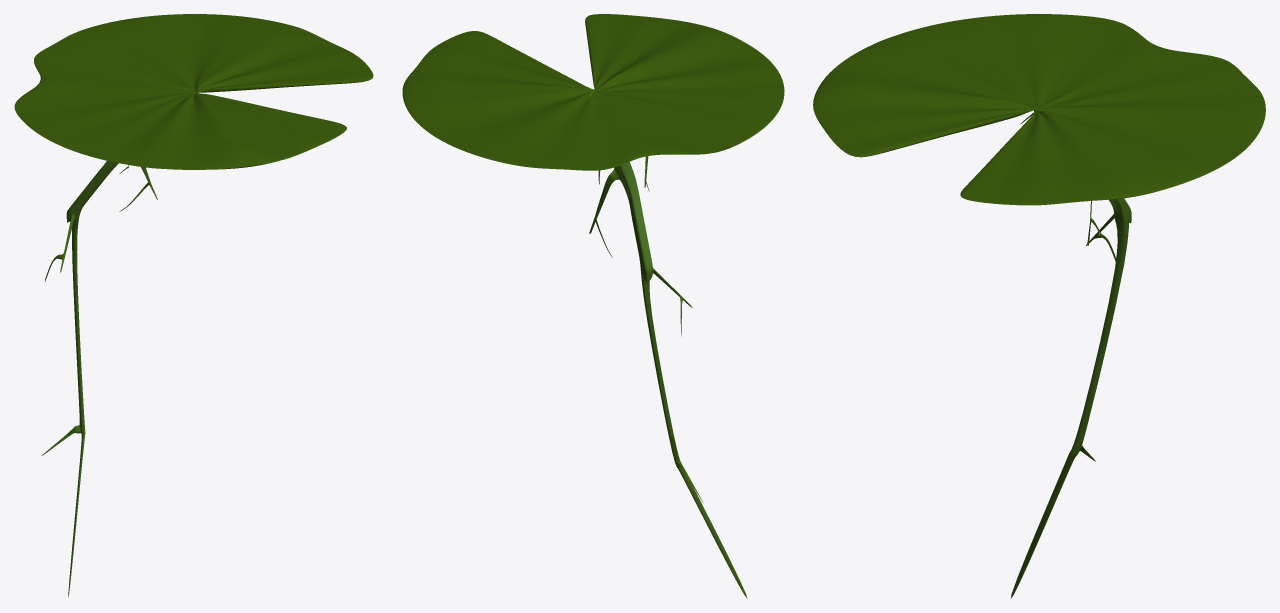
Rendered from lilypad_darkSmooth.fbx.
The picture shows the model from 3 angles, left to right: view 1: azimuth 30°, elevation 25°; view 2: azimuth 150°, elevation 25°; view 3: azimuth 270°, elevation 25°; orthographic projection. The views are drawn at different scales.
Visible parts, largest first — view 1: Cylinder; view 2: Cylinder; view 3: Cylinder.
Part boxes in pixels (x1=…): Cylinder: x1=14, y1=14, x2=373, y2=597; Cylinder: x1=402, y1=14, x2=784, y2=598; Cylinder: x1=813, y1=14, x2=1265, y2=598.
Bounding box in the file's own units: 1071 × 1509 × 1071.
